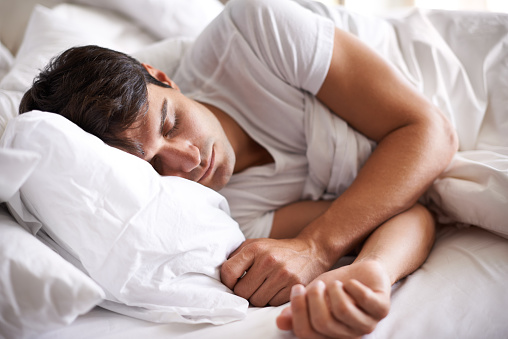deitado: (42, 0, 466, 339)
